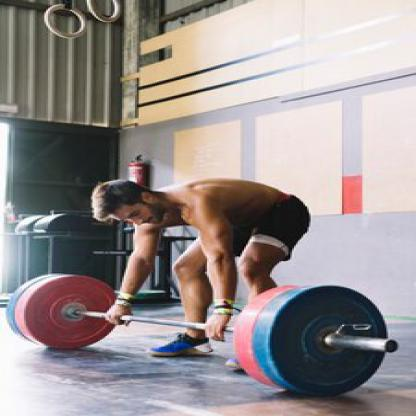Barbell: (260, 276, 402, 401)
